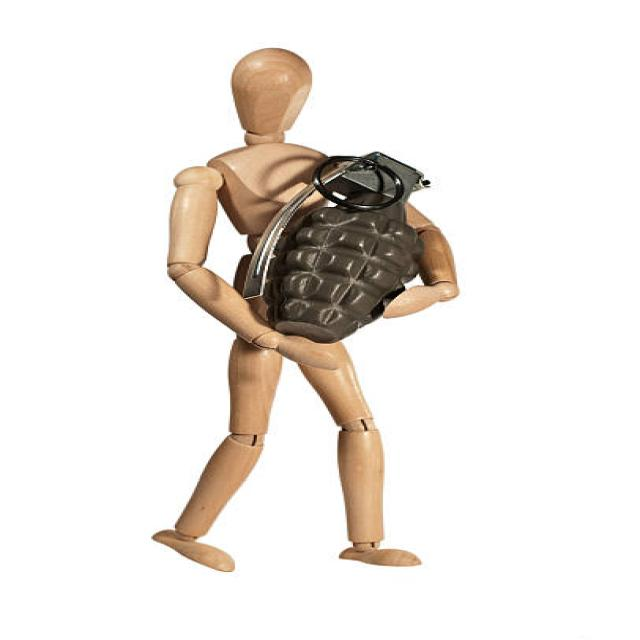grenade: (230, 149, 447, 348)
